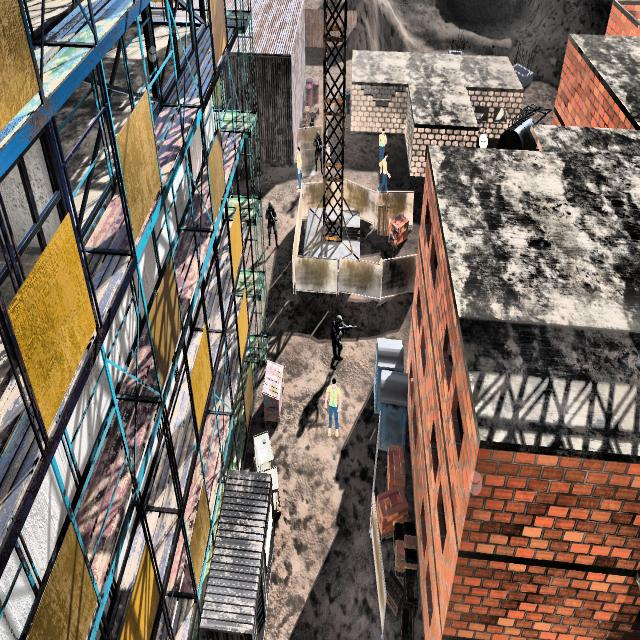bad: (329, 304, 345, 372), (264, 192, 278, 250), (310, 125, 324, 176)
good: (322, 369, 344, 448), (374, 154, 390, 194), (292, 146, 304, 195), (374, 120, 388, 157)
